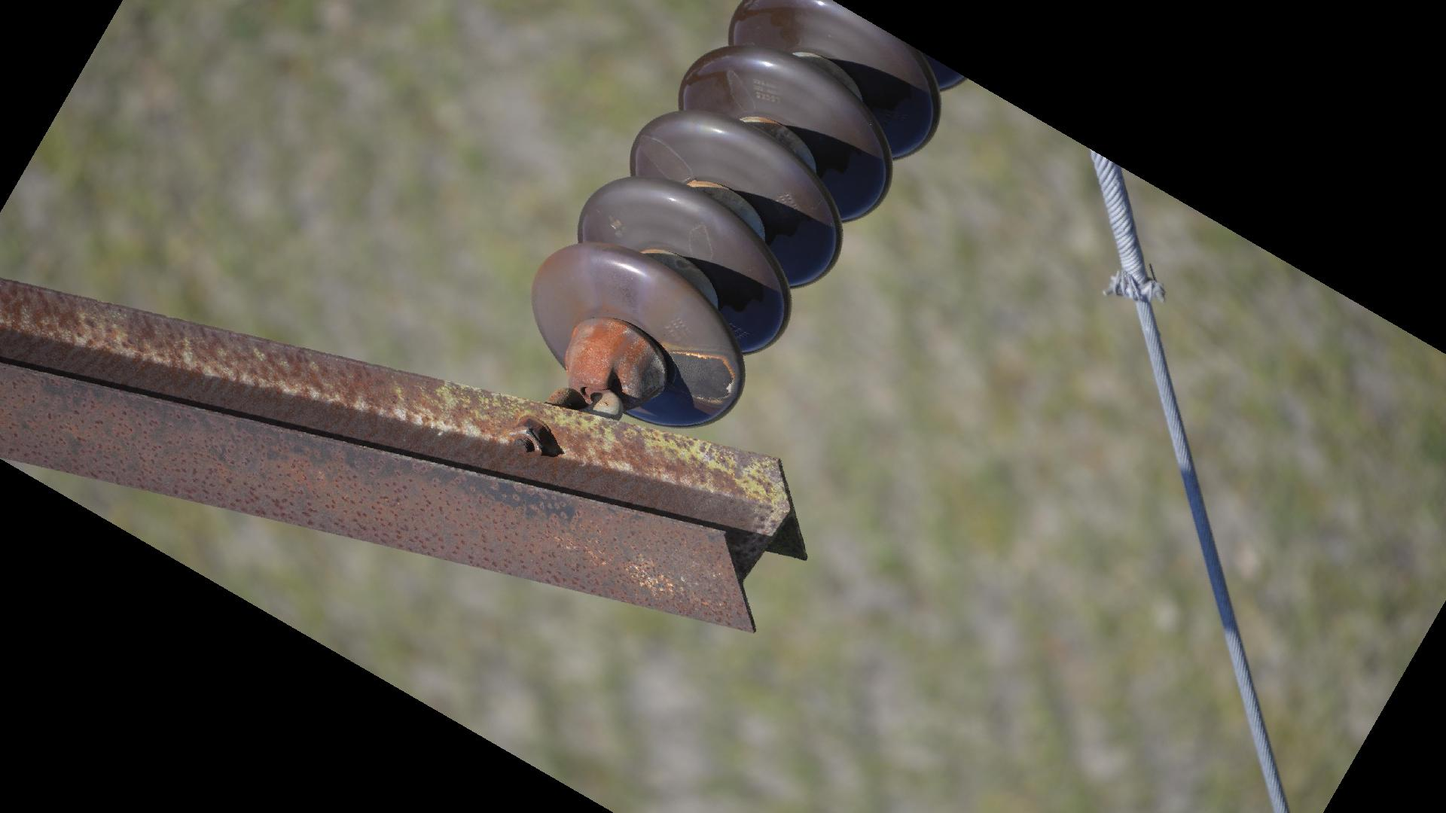insulator: (520, 1, 969, 437)
insulator_flashover: (662, 348, 737, 406)
